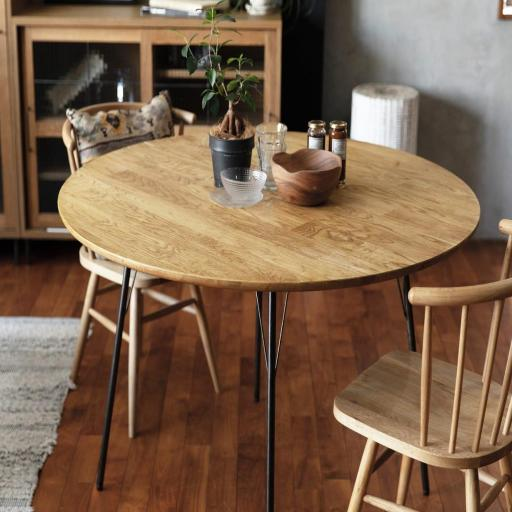table: (56, 123, 480, 498)
